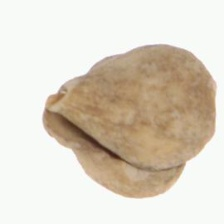L1: (40, 75, 76, 145)
L2: (42, 42, 217, 199)
